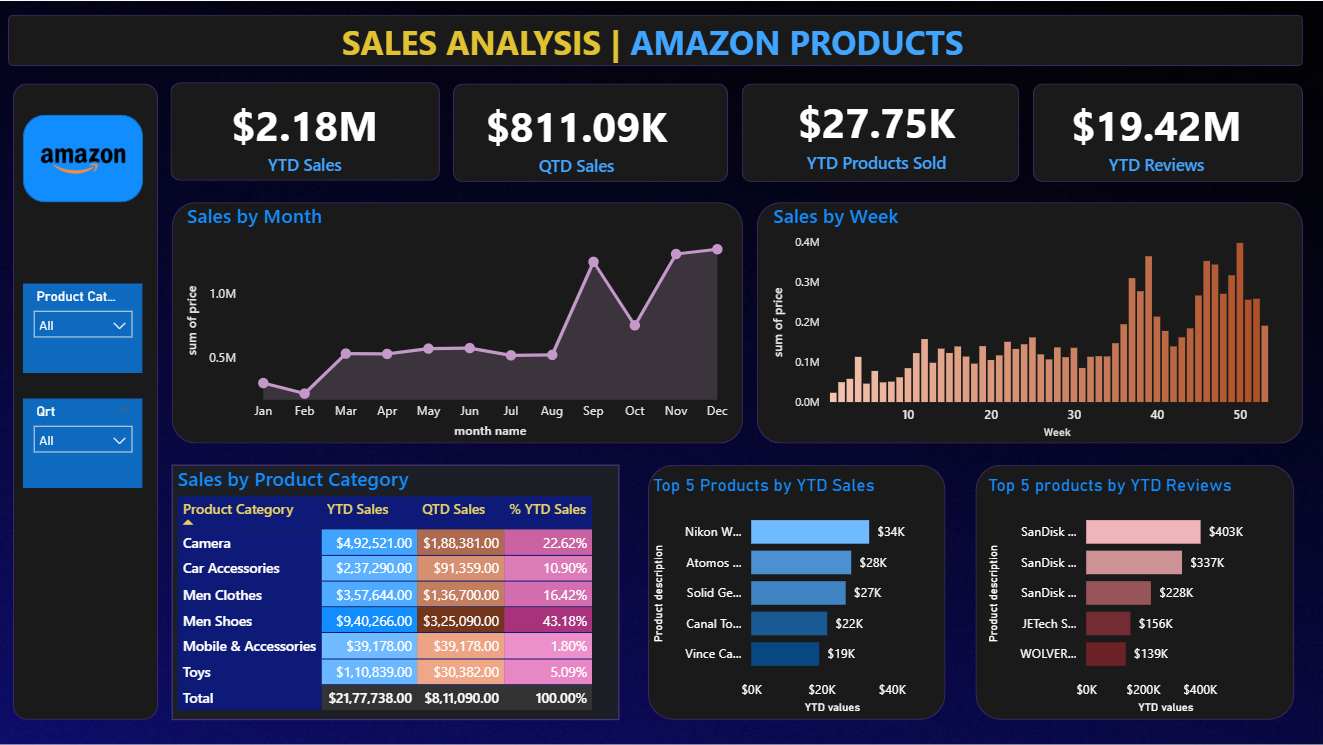

Layout of this report page (visuals, bound fields, positions):
{"tool":"powerbi","page":{"name":"Page 1","canvas":[1280,720],"ordinal":0},"visuals":[{"type":"shape","box":[9.7,13.3,1249.9,49.5],"z":0},{"type":"textbox","box":[326.9,13.3,624.9,55.5],"z":1000},{"type":"shape","box":[14.5,79.6,139.9,614.1],"z":2000},{"type":"shape","box":[166.5,78.4,260,95],"z":3000},{"type":"card","fields":{"Values":["Amazon_Data.YTD Sales"]},"box":[166.5,82,259.4,95.3],"z":4000},{"type":"shape","box":[167.7,194.2,551.3,232.8],"z":5000},{"type":"shape","box":[439.1,79.6,265.4,95.3],"z":6000},{"type":"shape","box":[717.8,79.6,267.8,95.3],"z":7000},{"type":"shape","box":[998.9,79.6,260.6,95.3],"z":8000},{"type":"card","fields":{"Values":["Amazon_Data.QTD Sales"]},"box":[425.9,83.2,265.4,95.3],"z":9000},{"type":"card","fields":{"Values":["Amazon_Data.YTD Products Sold"]},"box":[715.4,79.6,265.4,95.3],"z":10000},{"type":"card","fields":{"Values":["Amazon_Data.YTD Reviews"]},"box":[985.7,83.2,265.4,95.3],"z":11000},{"type":"areaChart","title":" Sales by Month ","fields":{"Category":["Date Table.Month Name"],"Y":["Sum(Amazon_Data.Price(Dollar))"]},"box":[177.3,194.2,538.1,232.8],"z":12000},{"type":"shape","box":[732.3,194.2,527.2,232.8],"z":13000},{"type":"columnChart","title":"Sales by Week","fields":{"Category":["Date Table.Week"],"Y":["Sum(Amazon_Data.Price(Dollar))"]},"box":[743.2,194.2,507.9,232.8],"z":14000},{"type":"pivotTable","title":"Sales by Product Category","fields":{"Rows":["Amazon_Data.Product Category"],"Values":["Amazon_Data.YTD Sales1","Amazon_Data.QTD Sales","Amazon_Data.YTD Sales"]},"box":[177.3,447.6,429.5,246.1],"z":15000},{"type":"shape","box":[627.3,447.6,287.1,246.1],"z":16000},{"type":"shape","box":[943.4,447.6,307.6,246.1],"z":17000},{"type":"clusteredBarChart","title":"Top 5 Products by YTD Sales ","fields":{"Category":["Amazon_Data.Product Description"],"Y":["Amazon_Data.YTD Sales"]},"box":[627.1,456.9,275.8,236],"z":18000},{"type":"clusteredBarChart","title":"Top 5 products by YTD Reviews","fields":{"Category":["Amazon_Data.Product Description"],"Y":["Amazon_Data.YTD Reviews"]},"box":[950.9,456.9,275.8,236],"z":19000},{"type":"slicer","fields":{"Values":["Amazon_Data.Product Category"]},"box":[24.7,273.1,115.3,86.4],"z":20000},{"type":"slicer","fields":{"Values":["Date Table.Qrt"]},"box":[24.7,384.2,115.3,86.4],"z":21000},{"type":"shape","box":[24.1,109.8,115.8,84.5],"z":22000},{"type":"image","box":[24.1,109.8,115.8,84.5],"z":23000}]}

Visuals, with their boxes in screenshot pixels (x1, y1, x2, y2), scaled from the page's 1280x720 canvas onto the 1323x745 screenshot:
shape: l=10, t=14, r=1302, b=65
textbox: l=338, t=14, r=984, b=71
shape: l=15, t=82, r=160, b=718
shape: l=172, t=81, r=441, b=179
card - Amazon_Data.YTD Sales: l=172, t=85, r=440, b=183
shape: l=173, t=201, r=743, b=442
shape: l=454, t=82, r=728, b=181
shape: l=742, t=82, r=1019, b=181
shape: l=1032, t=82, r=1302, b=181
card - Amazon_Data.QTD Sales: l=440, t=86, r=715, b=185
card - Amazon_Data.YTD Products Sold: l=739, t=82, r=1014, b=181
card - Amazon_Data.YTD Reviews: l=1019, t=86, r=1293, b=185
" Sales by Month " areaChart: l=183, t=201, r=739, b=442
shape: l=757, t=201, r=1302, b=442
"Sales by Week" columnChart: l=768, t=201, r=1293, b=442
"Sales by Product Category" pivotTable: l=183, t=463, r=627, b=718
shape: l=648, t=463, r=945, b=718
shape: l=975, t=463, r=1293, b=718
"Top 5 Products by YTD Sales " clusteredBarChart: l=648, t=473, r=933, b=717
"Top 5 products by YTD Reviews" clusteredBarChart: l=983, t=473, r=1268, b=717
slicer - Amazon_Data.Product Category: l=26, t=283, r=145, b=372
slicer - Date Table.Qrt: l=26, t=398, r=145, b=487
shape: l=25, t=114, r=145, b=201
image: l=25, t=114, r=145, b=201
